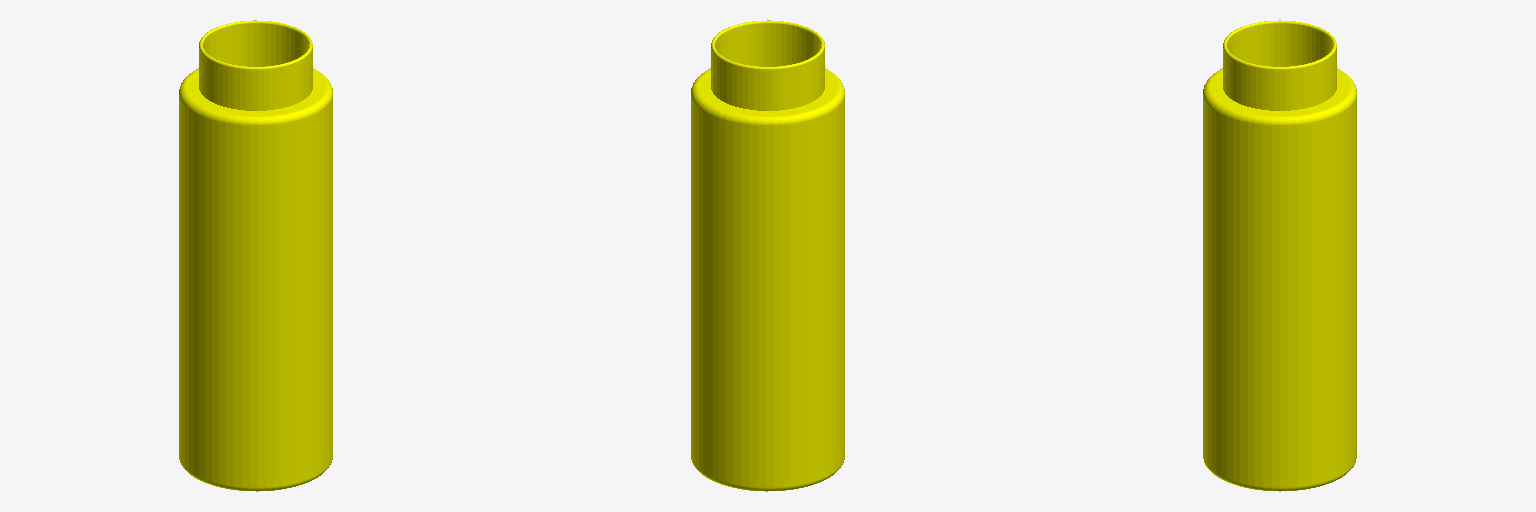
robot.urdf — paper_cup:
<?xml version="1.0" ?>
<robot name="paper_cup">
  <link name="paper_cup">

    <inertial>
      <origin rpy="0 0 0" xyz="0 0 -0.097"/>
       <mass value="0.109"/>
       <inertia ixx="0.000429" ixy="0.0" ixz="0.0" iyy="0.000429" iyz="0.0" izz="0.0001"/>
    </inertial>
    <visual>
      <origin rpy="0 0 0" xyz="0 0 -0.097"/>
      <geometry>
        <mesh filename="package://objects/meshes/bottle.obj" scale="1 1 1"/>
      </geometry>
      <material name="white">
        <color rgba="1.0 1.0 0.0 0.0"/>
      </material>
    </visual>
    <collision>
      <origin rpy="0 0 0" xyz="0 0 -0.097"/>
      <geometry>
        <mesh filename="package://objects/meshes/bottle_collision.obj" scale="1 1 1"/>
      </geometry>
    </collision>
  </link>
</robot>

--- Render facts (derived) ---
3 views of the same robot in one strip: view 1: azimuth 30°, elevation 25°; view 2: azimuth 150°, elevation 25°; view 3: azimuth 270°, elevation 25° (orthographic).
Robot: paper_cup — 1 links, 0 joints (none); root link paper_cup; default pose: all joints at 0.
Visible links, largest first — view 1: paper_cup; view 2: paper_cup; view 3: paper_cup.
Boxes of the visible links, x1,y1,x2,y2 form: paper_cup: (179, 20, 332, 491); paper_cup: (691, 20, 844, 491); paper_cup: (1203, 20, 1356, 491).
Size in the robot's own frame: 0.065 by 0.0649 by 0.194 metres.
1 mesh visuals loaded from 1 distinct referenced files (1 OBJ).